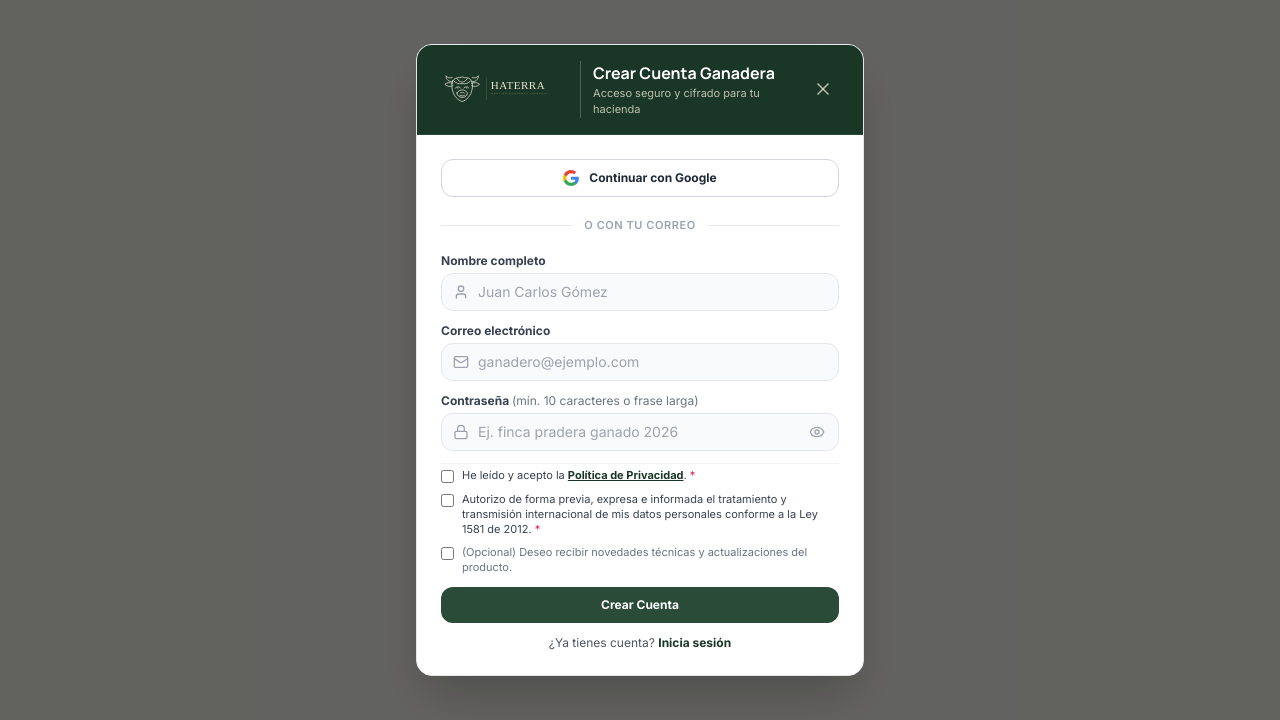
Test: AuthModal UI, Privacy Consents (Ley 1581) & Token Hygiene › keeps Ley 1581 privacy and data-processing checkboxes UNCHECKED by default on registration
Check: the number of checkboxes is 3, box [441,470,454,483]; [441,494,454,506]; [441,547,454,560]
Check: the checkbox labelled "He leído y acepto la Política de Privacidad . *" is not checked, box [441,470,454,483]
Type "Carlos Pérez" into the field with placeholder "Juan Carlos Gómez" at {"x": 640, "y": 292}, box [441,273,839,311]
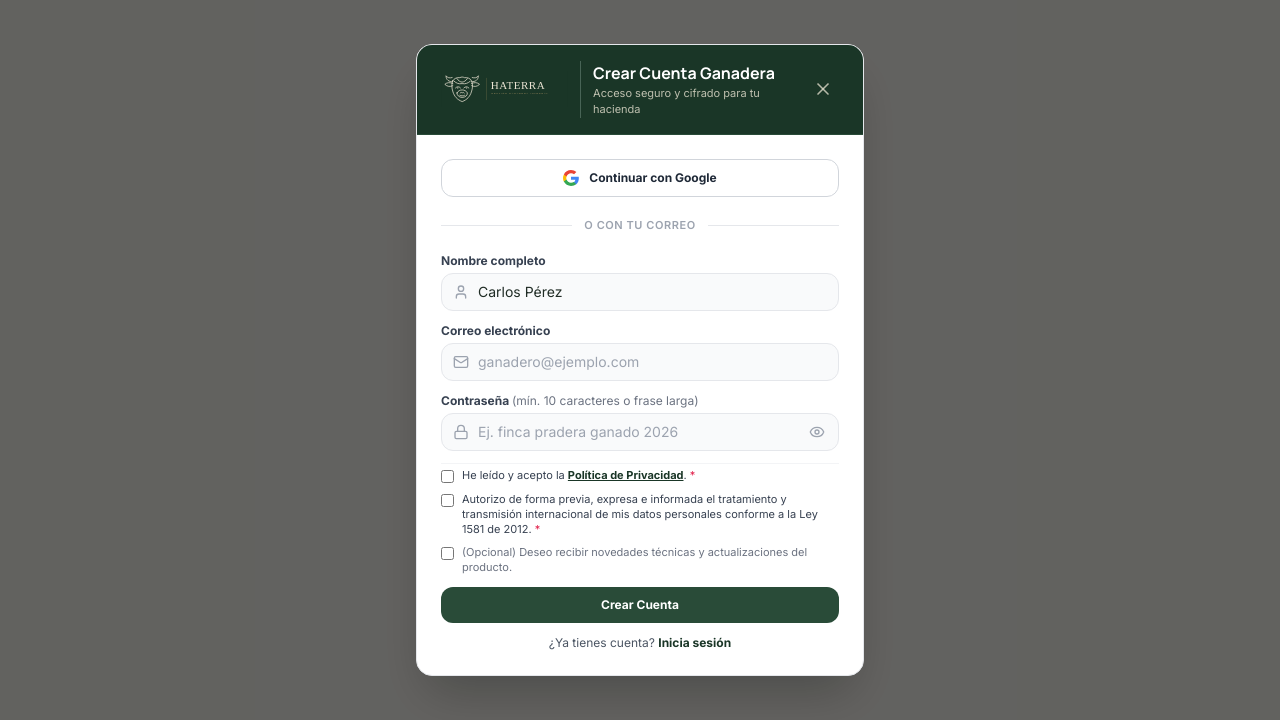
Type "carlos@finca.co" into the field with placeholder "ganadero@ejemplo.com" at {"x": 640, "y": 362}, box [441,343,839,381]
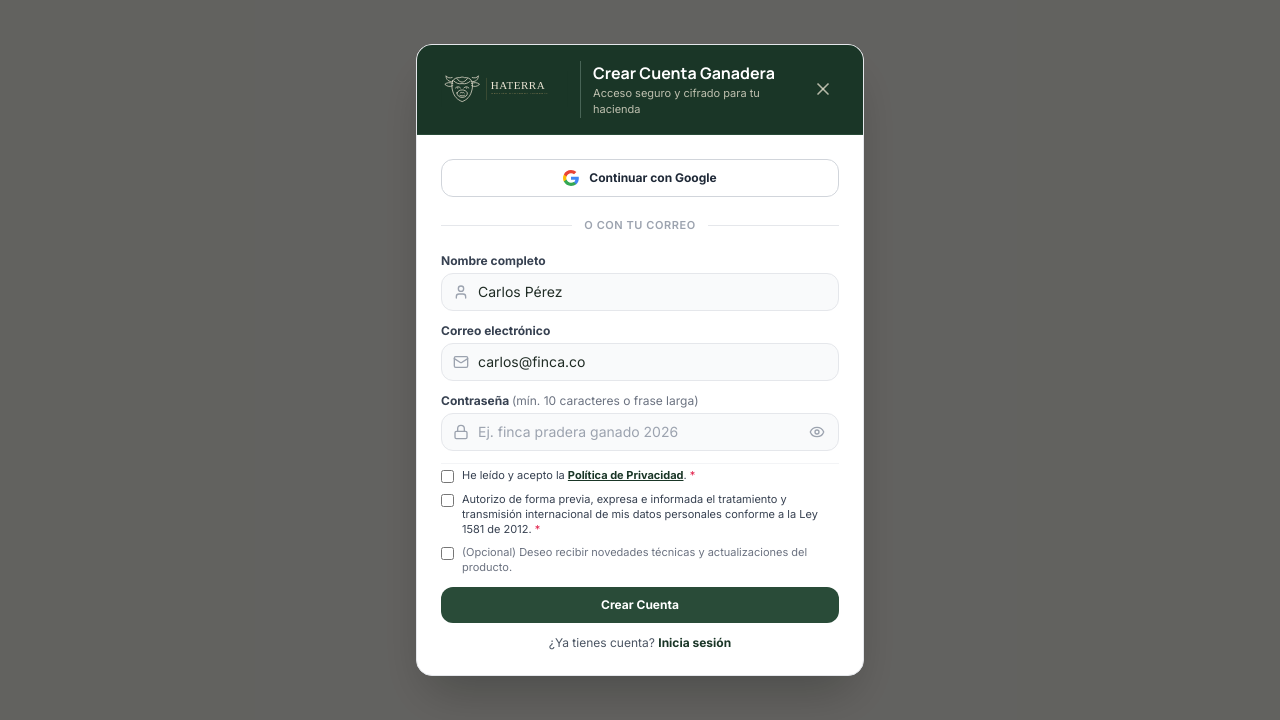
Type "finca la pradera 2026" into the password field with placeholder "Ej. finca pradera ganado 2026" at {"x": 640, "y": 432}, box [441,413,839,451]
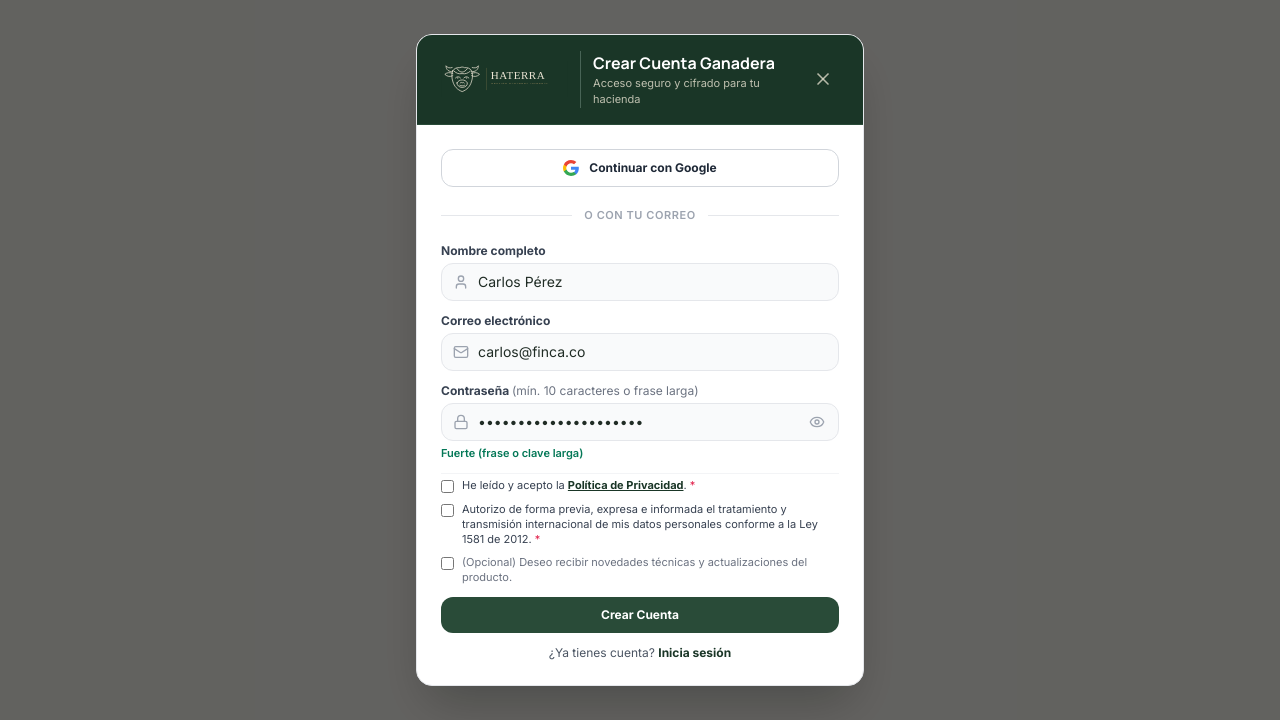
Click the button "Crear Cuenta" at {"x": 640, "y": 615}, box [441,597,839,633]
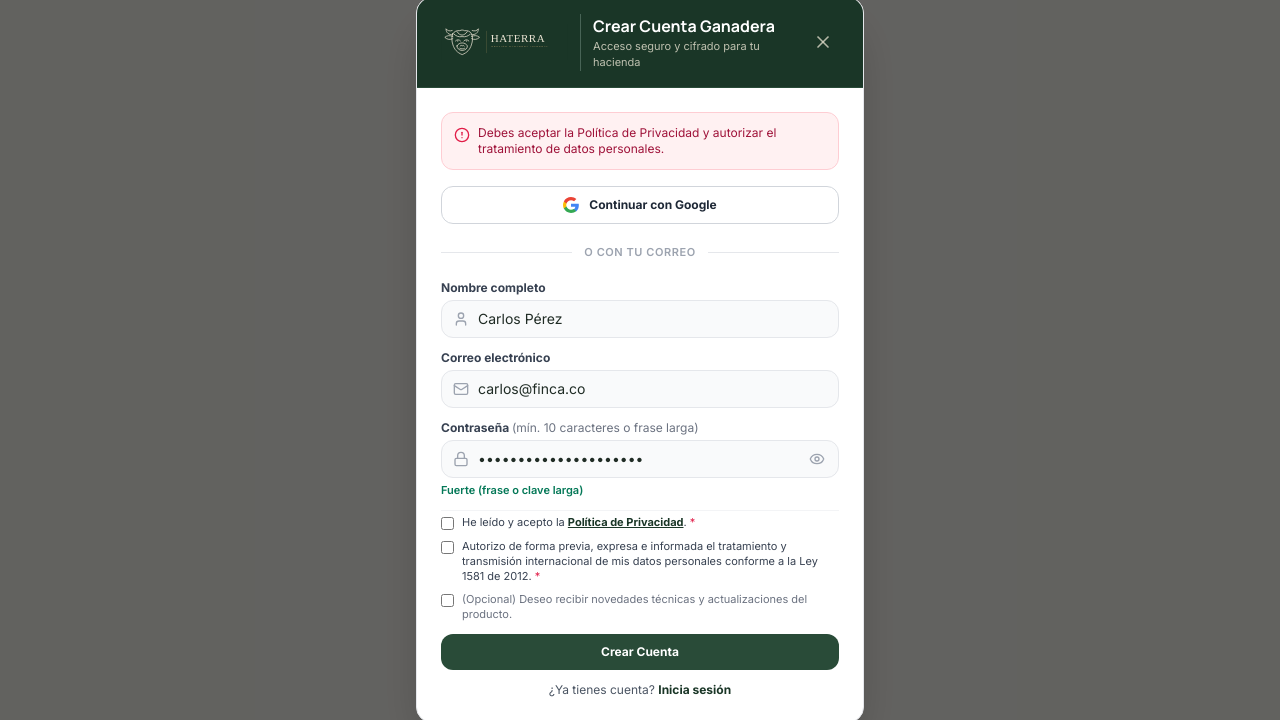
Check: the text "Debes aceptar la Política de Privacidad y autorizar el tratamiento de datos personales." is shown, box [478,125,776,156]
